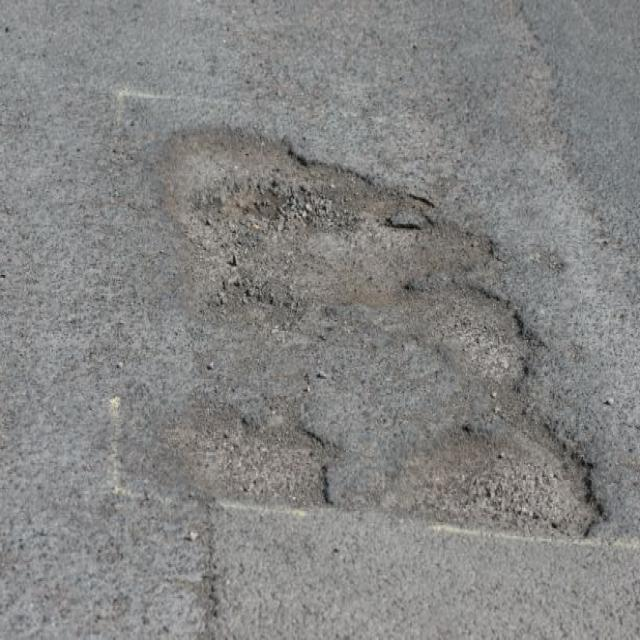Pothole: (148, 118, 499, 314), (383, 400, 613, 542), (163, 389, 347, 512), (395, 287, 555, 390)
